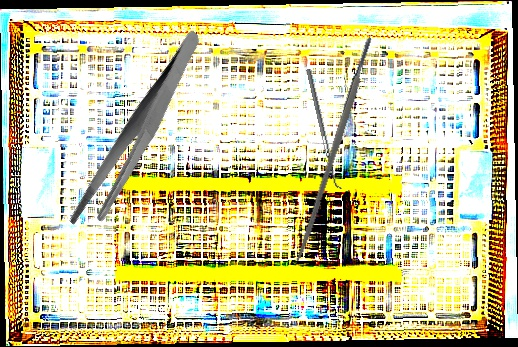Dressing Forceps: (32, 28, 245, 238)
Scalpel Handle: (293, 35, 377, 263)
Spatula Surgical: (306, 67, 343, 191)
